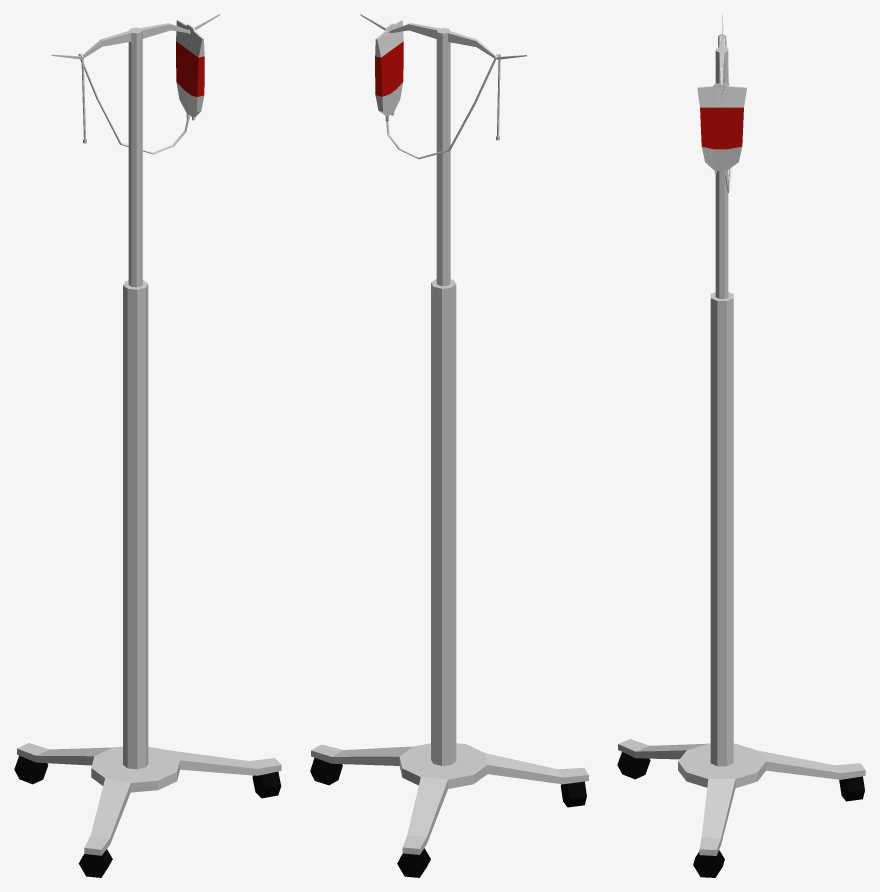
Rendered from iv_stand.fbx.
The picture shows the model from 3 angles, left to right: view 1: azimuth 30°, elevation 25°; view 2: azimuth 150°, elevation 25°; view 3: azimuth 270°, elevation 25°; orthographic projection. The views are drawn at different scales.
Visible parts, largest first — view 1: H_Serum; view 2: H_Serum; view 3: H_Serum.
Boxes of the visible parts, box(x1,y1,x2,y2) form: H_Serum: box(14, 14, 281, 877); H_Serum: box(310, 14, 588, 877); H_Serum: box(617, 14, 865, 877).
Size of the model in its own units: 270 by 253 by 860.
